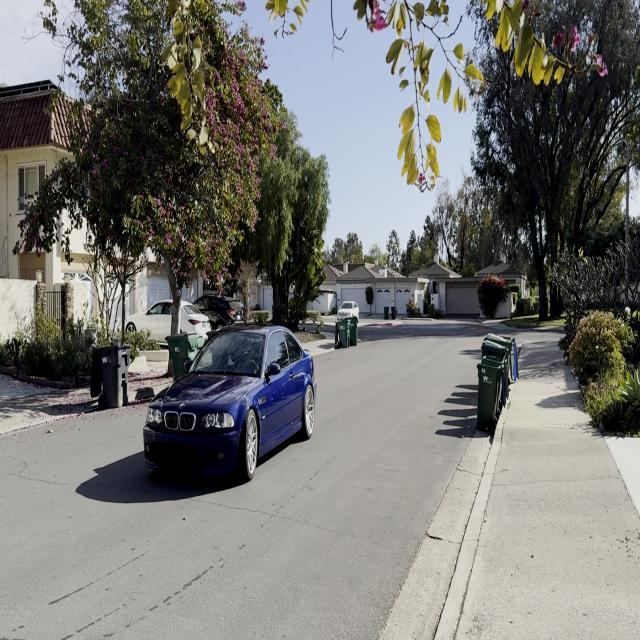Carbeetle: (138, 311, 320, 501)
